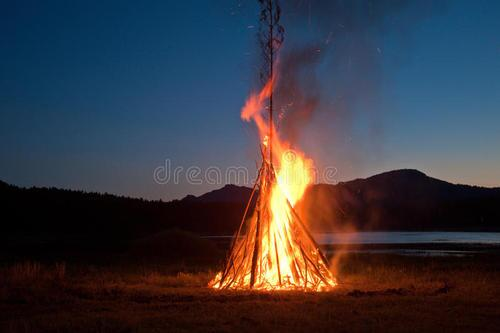fire: (259, 144, 314, 288), (226, 225, 325, 288)
smoke: (276, 38, 368, 143)
